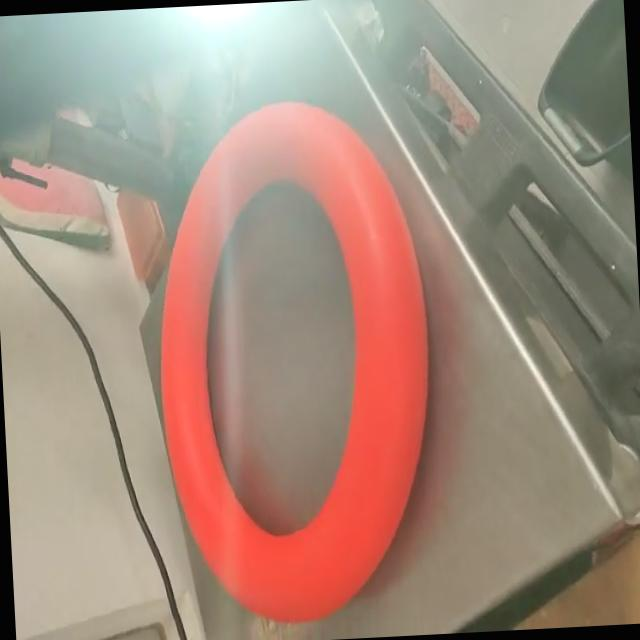note: (140, 90, 444, 632)
